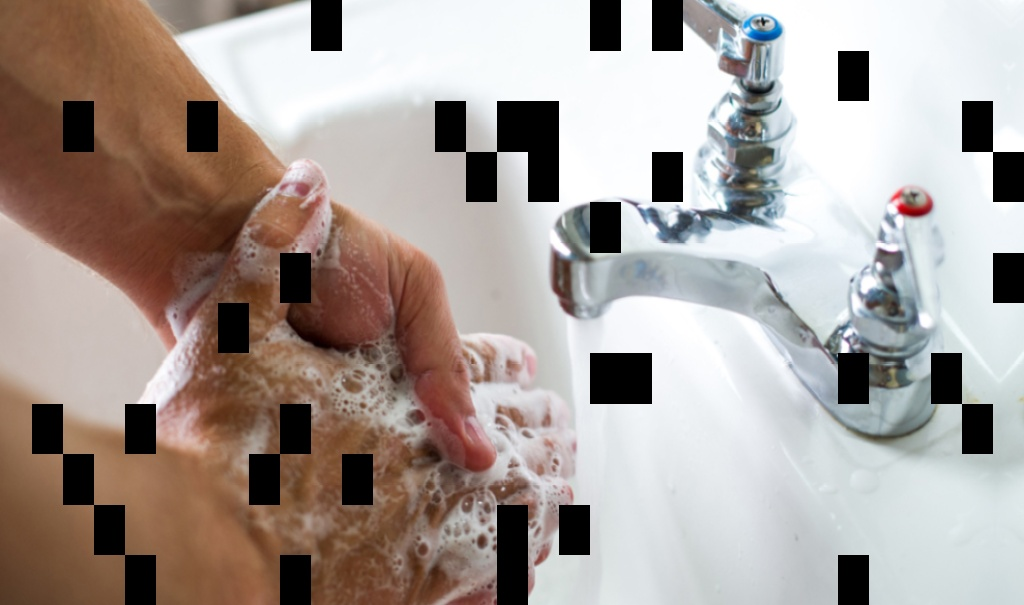washing hand: (82, 22, 817, 604)
